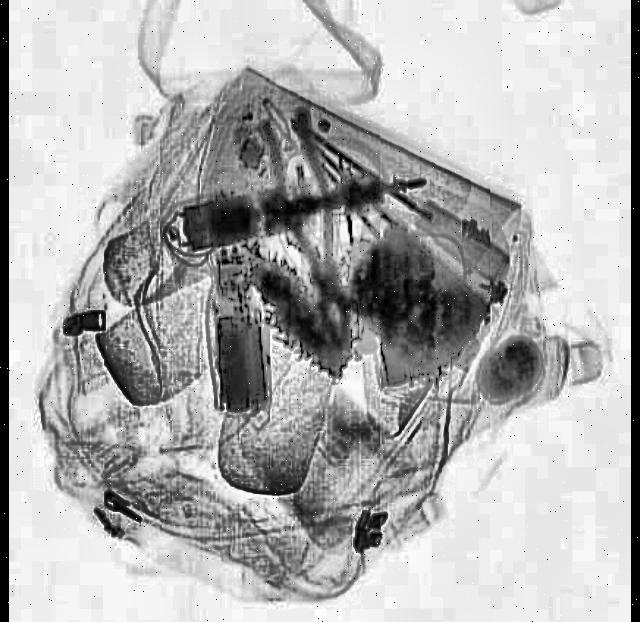Pliers: (257, 112, 359, 350)
